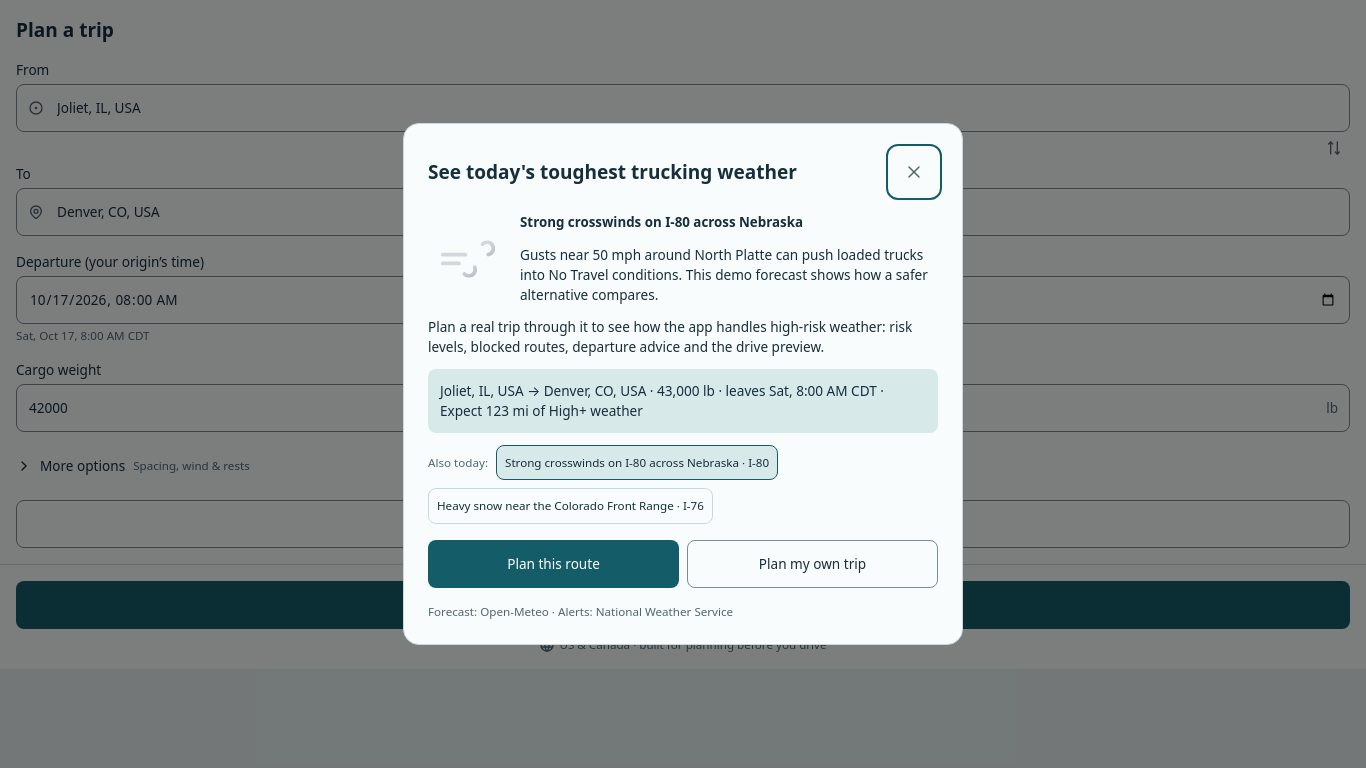
Test: daily weather showcase › shows verified exposure for the selected trip and omits it for older responses
The image size is (1366, 768).
Expected: the text with class "showcase-trip" shows "Expect 123 mi of High+ weather", [428,369,938,433]
Click the button "Heavy snow near the Colorado Front Range · I-76". click: {"x": 570, "y": 506}
box: [428,488,713,524]
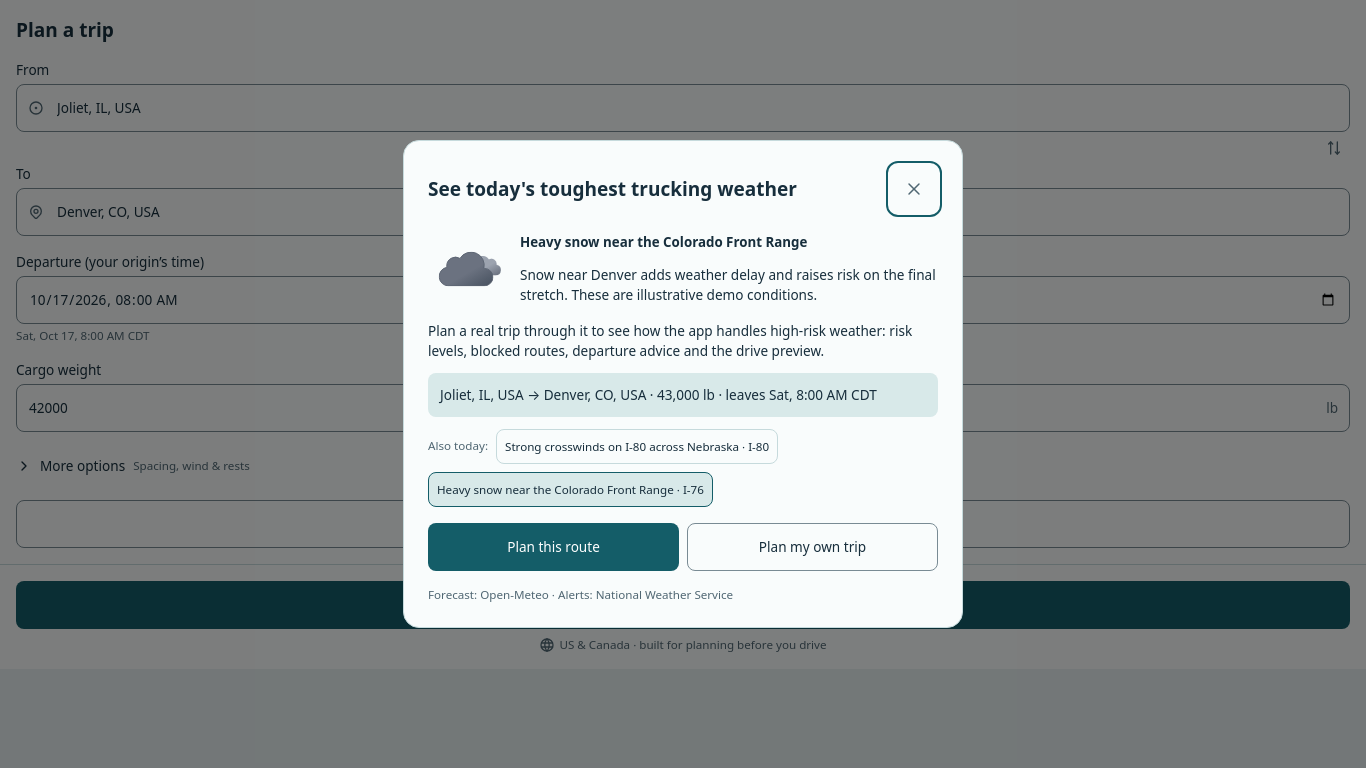
Expected: the text with class "showcase-trip" shows "Joliet, IL, USA", [440,385,524,404]
Expected: the text with class "showcase-trip" no longer shows "Expect", [428,373,938,417]
